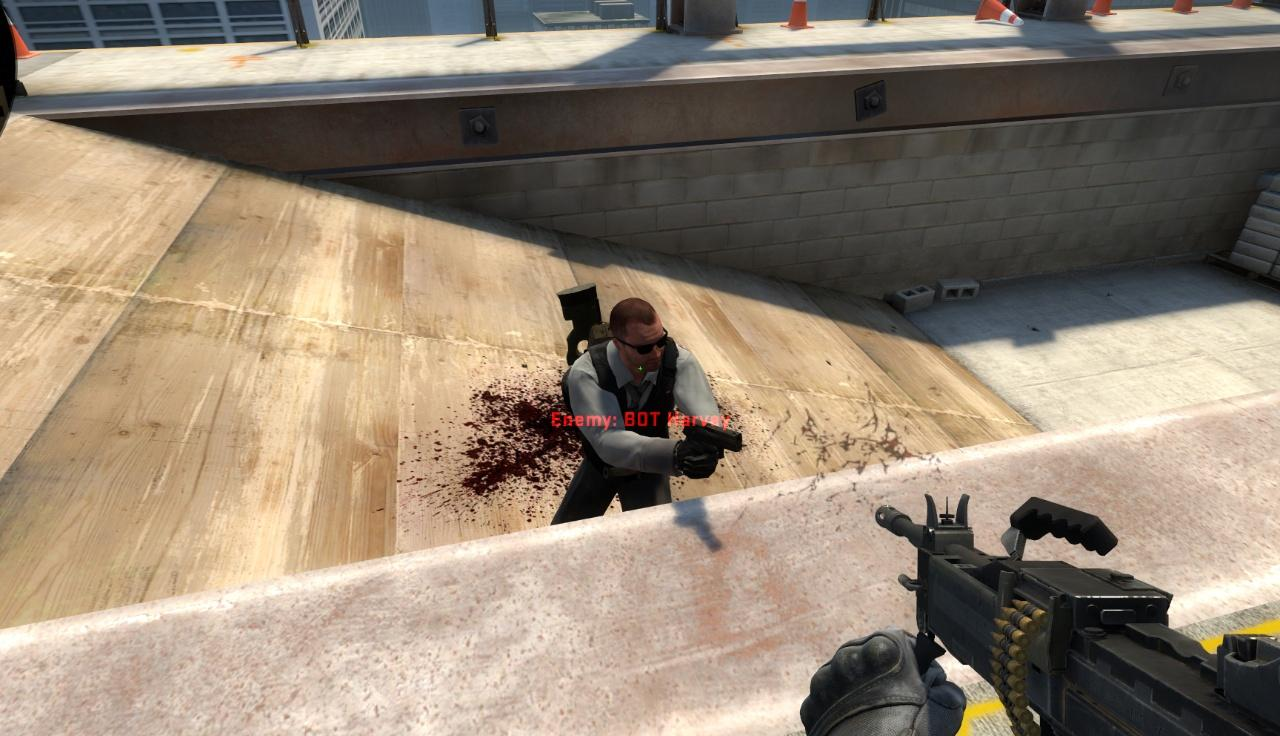rifle: (854, 486, 1277, 734)
tt: (550, 299, 720, 522)
tthead: (610, 298, 664, 370)
